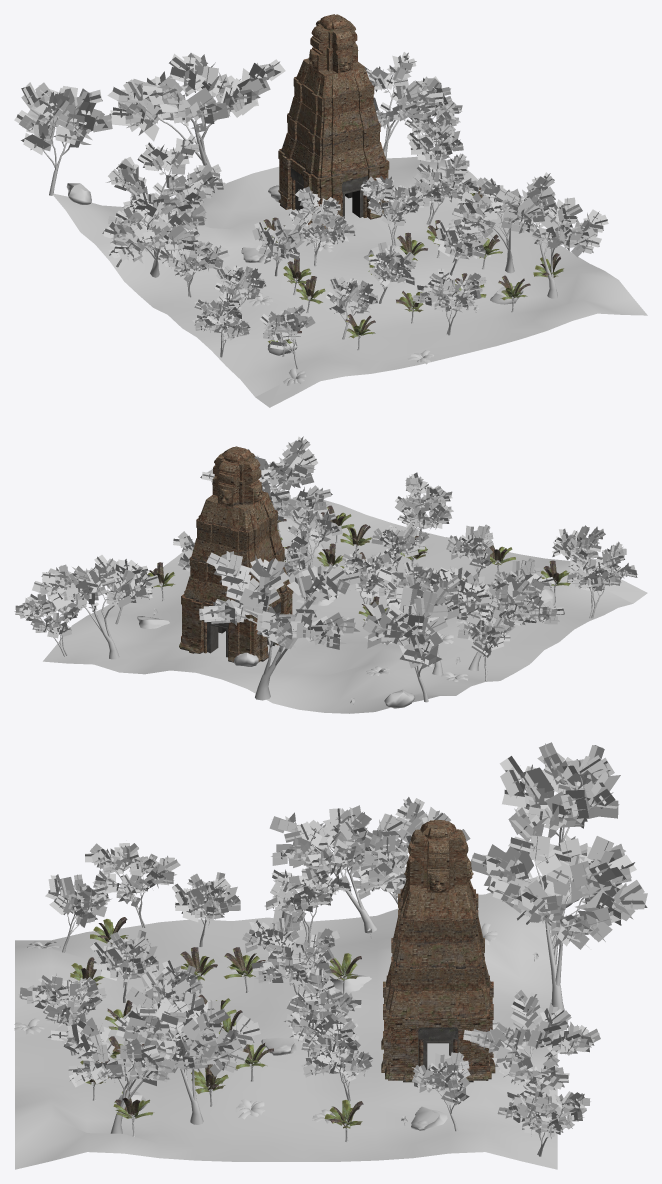
File: O_004_ground_03_04.fbx
3 views of the same model, one above another, from view 1: azimuth 30°, elevation 25°; view 2: azimuth 150°, elevation 25°; view 3: azimuth 270°, elevation 25° (orthographic). The views are drawn at different scales.
Visible parts, largest first — view 1: ground004, tree02, tree019, tree01, tree017, ruins_4F001, tree049, ruins_2F001, tree050, ruins_1F001, ruins_3F001, tree084 (+14 smaller); view 2: ground004, tree02, tree084, tree01, ruins_4F001, ruins_1F001, tree019, tree017, ruins_3F001, tree050, tree048, tree005 (+15 smaller); view 3: ground004, tree02, tree01, tree049, tree050, tree084, ruins_4F001, tree019, ruins_1F001, ruins_2F001, ruins_3F001, tree005 (+17 smaller).
Boxes of the visible parts, x1,y1,x2,y2 form: ground004: (53, 156, 647, 407); tree02: (107, 53, 285, 193); tree019: (102, 181, 206, 277); tree01: (14, 82, 112, 195); tree017: (106, 134, 225, 245); ruins_4F001: (296, 14, 371, 98); tree049: (496, 188, 608, 298); ruins_2F001: (281, 113, 386, 178); tree050: (452, 172, 555, 273); ruins_1F001: (278, 148, 389, 229); ruins_3F001: (288, 76, 378, 138); tree084: (365, 52, 450, 159); ground004: (43, 498, 647, 713); tree02: (199, 551, 362, 700); tree084: (32, 555, 159, 659); tree01: (362, 586, 447, 702); ruins_4F001: (198, 446, 275, 531); ruins_1F001: (179, 583, 293, 662); tree019: (437, 567, 564, 671); tree017: (372, 568, 490, 675); ruins_3F001: (191, 510, 282, 567); tree050: (200, 456, 332, 521); tree048: (395, 472, 453, 536); tree005: (565, 541, 637, 618); ground004: (15, 874, 557, 1169); tree02: (470, 807, 647, 1011); tree01: (499, 742, 620, 846); tree049: (48, 1001, 207, 1133); tree050: (123, 987, 260, 1124); tree084: (463, 990, 600, 1121); ruins_4F001: (400, 819, 475, 919); tree019: (269, 805, 404, 933); ruins_1F001: (381, 975, 495, 1082); ruins_2F001: (386, 938, 490, 1017); ruins_3F001: (393, 889, 483, 968); tree005: (85, 843, 180, 927).
Size of the model in its own units: 2312 by 1041 by 2299.
